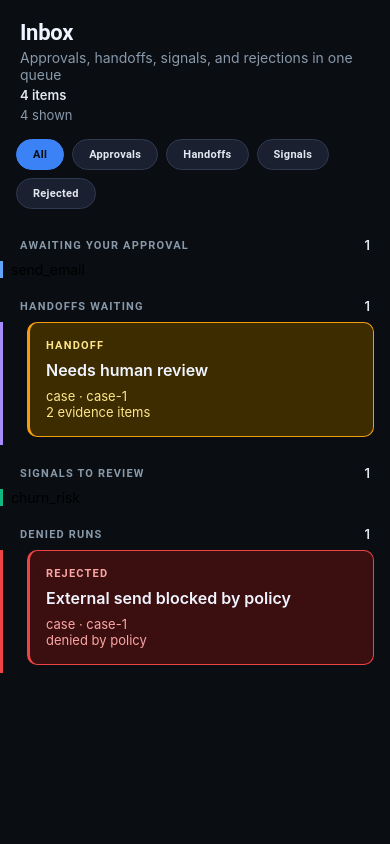
Test: InboxScreen › filters the feed to approvals
The image size is (390, 844).
Click the element with test id "inbox-chip-approval": (115, 154) [72,139,158,170]
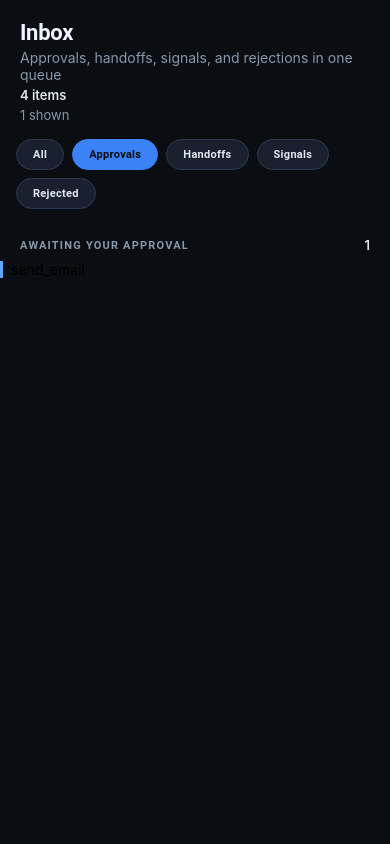
Check: the element with test id "inbox-handoff-run-1" is gone
Check: the element with test id "inbox-rejected-run-denied-1" is gone
Check: the text "1 shown" is shown, box [20,107,69,123]
